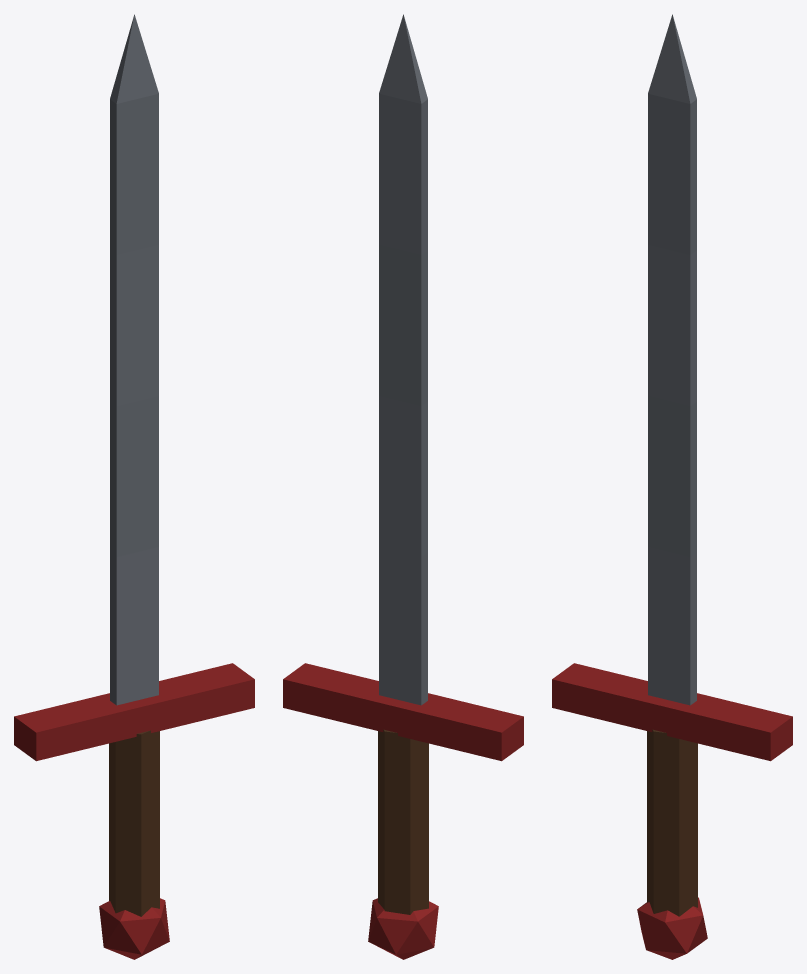
Rendered from weapon_greatsword.glb.
The picture shows the model from 3 angles, left to right: view 1: azimuth 30°, elevation 25°; view 2: azimuth 150°, elevation 25°; view 3: azimuth 330°, elevation 25°; orthographic projection.
Parts seen in each view (by area): view 1: human_weapon_greatsword; view 2: human_weapon_greatsword; view 3: human_weapon_greatsword.
Part boxes in pixels (<box>): human_weapon_greatsword: <box>14,14,254,959</box>; human_weapon_greatsword: <box>283,14,523,959</box>; human_weapon_greatsword: <box>552,14,792,959</box>.
Size of the model in its own units: 0.24 by 0.9918 by 0.0643.
